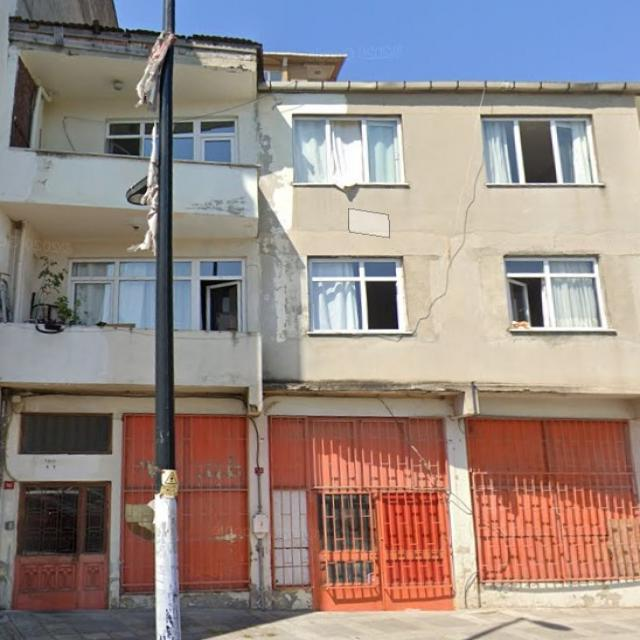Building: (5, 18, 640, 609)
